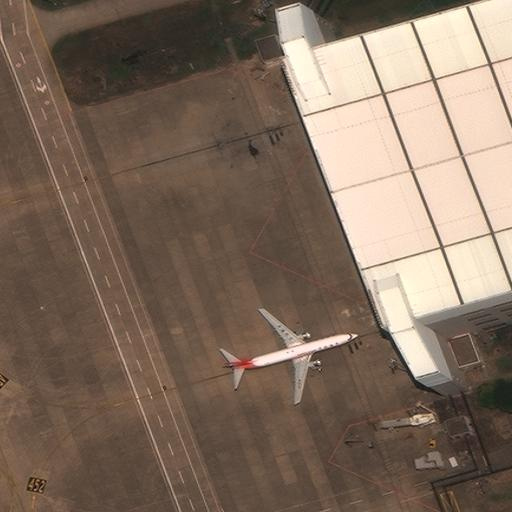Medium Civil Transport: (230, 307, 358, 403)
